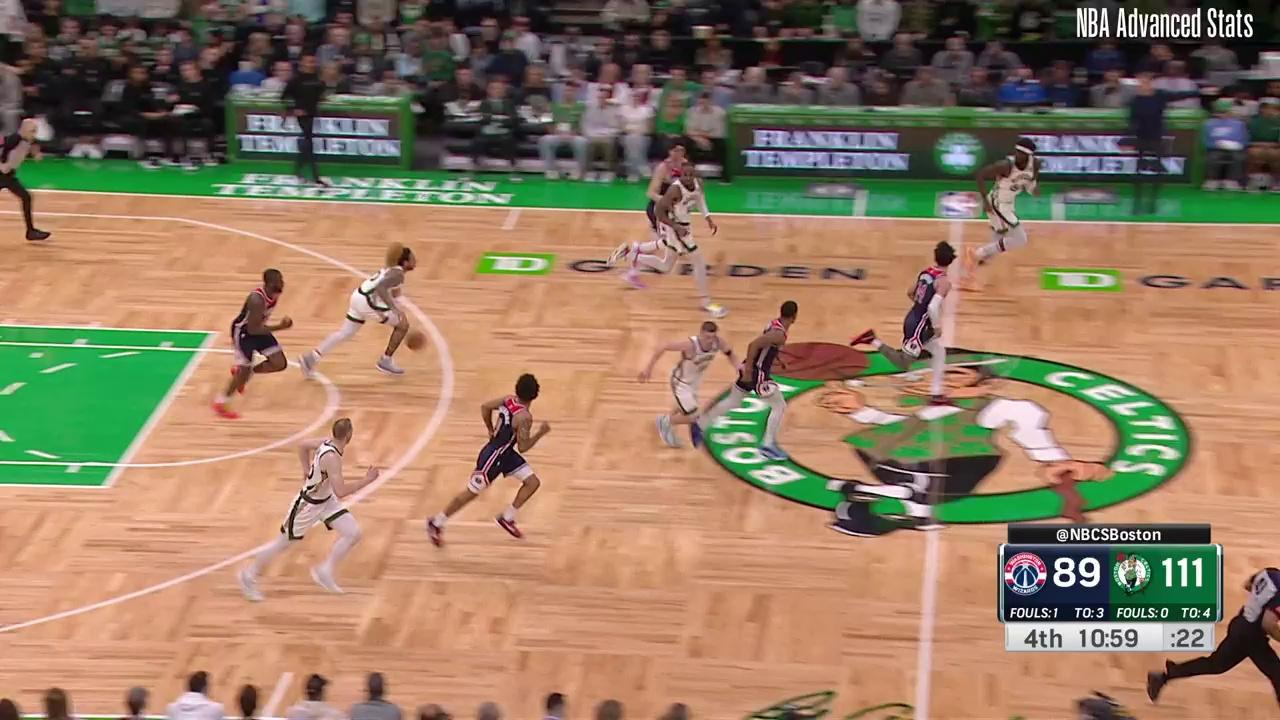free_adx: (205, 327, 223, 342)
free_asx: (91, 479, 116, 498)
half_sx: (945, 210, 969, 231)
mid_dx: (498, 223, 516, 234)
mid_sx: (277, 664, 296, 682)
referee: (1225, 559, 1280, 707), (0, 114, 51, 247)
team: (261, 416, 374, 602), (323, 245, 426, 376), (657, 167, 723, 314), (970, 134, 1043, 264), (657, 322, 727, 450)
team1: (441, 372, 548, 547), (882, 235, 960, 406), (222, 262, 295, 425), (731, 301, 799, 463), (642, 136, 691, 234)
timer: (1074, 623, 1142, 651)
